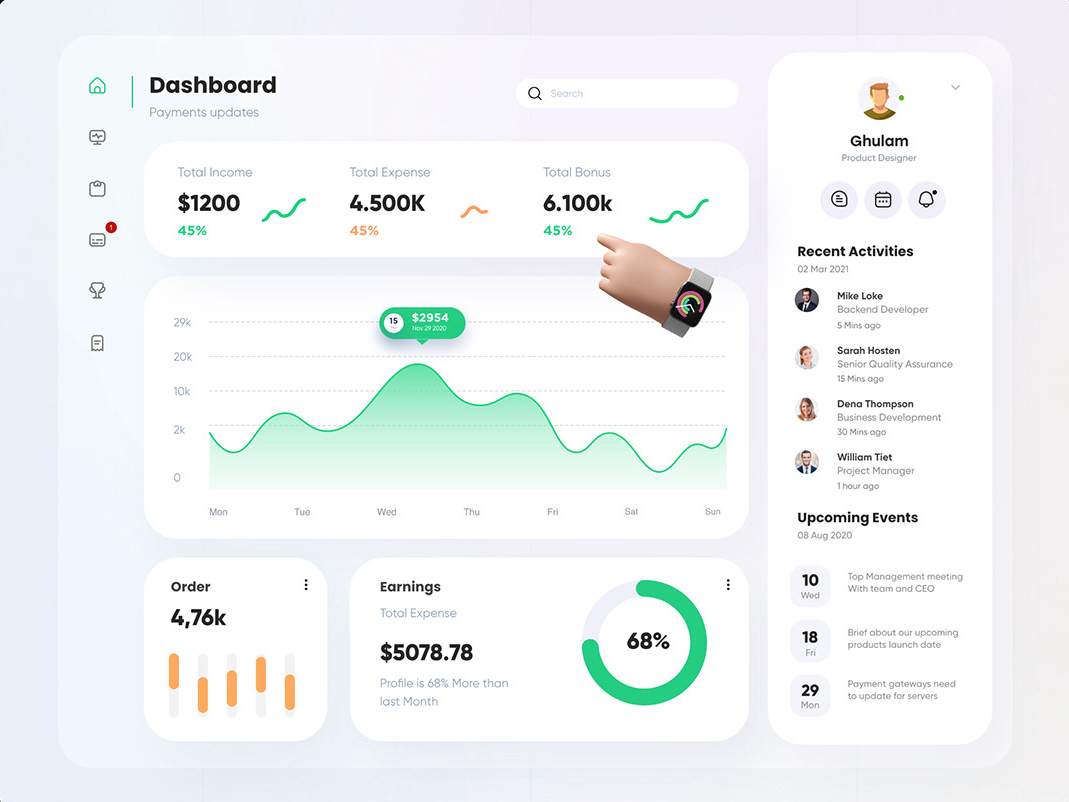block: (766, 53, 993, 746), (143, 142, 749, 257), (60, 38, 133, 767)
chart: (142, 277, 751, 539), (351, 555, 747, 739), (145, 555, 329, 738)
form: (517, 77, 739, 108)
icon: (909, 182, 947, 219), (867, 183, 903, 221), (822, 184, 858, 219), (83, 325, 117, 360), (83, 272, 116, 305), (82, 174, 115, 204), (82, 224, 114, 253), (83, 122, 113, 151), (523, 81, 549, 106), (85, 74, 113, 97), (717, 572, 740, 597), (296, 571, 316, 596), (947, 77, 967, 96)
image: (589, 230, 720, 335), (857, 77, 905, 120), (794, 287, 822, 313), (794, 344, 822, 370), (793, 395, 821, 421), (793, 447, 821, 473)
table: (781, 242, 973, 500), (782, 511, 975, 722)
